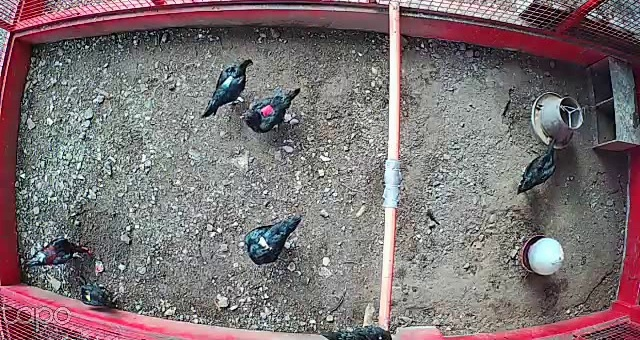Chicken: (198, 57, 256, 122), (240, 213, 298, 268), (239, 85, 303, 134), (512, 137, 561, 198), (78, 284, 125, 314)
Rooster: (23, 233, 95, 271)
Saddle_Color_Red: (260, 102, 274, 117)
Saddle_Color_Yellow: (256, 235, 267, 252), (83, 294, 92, 301)
